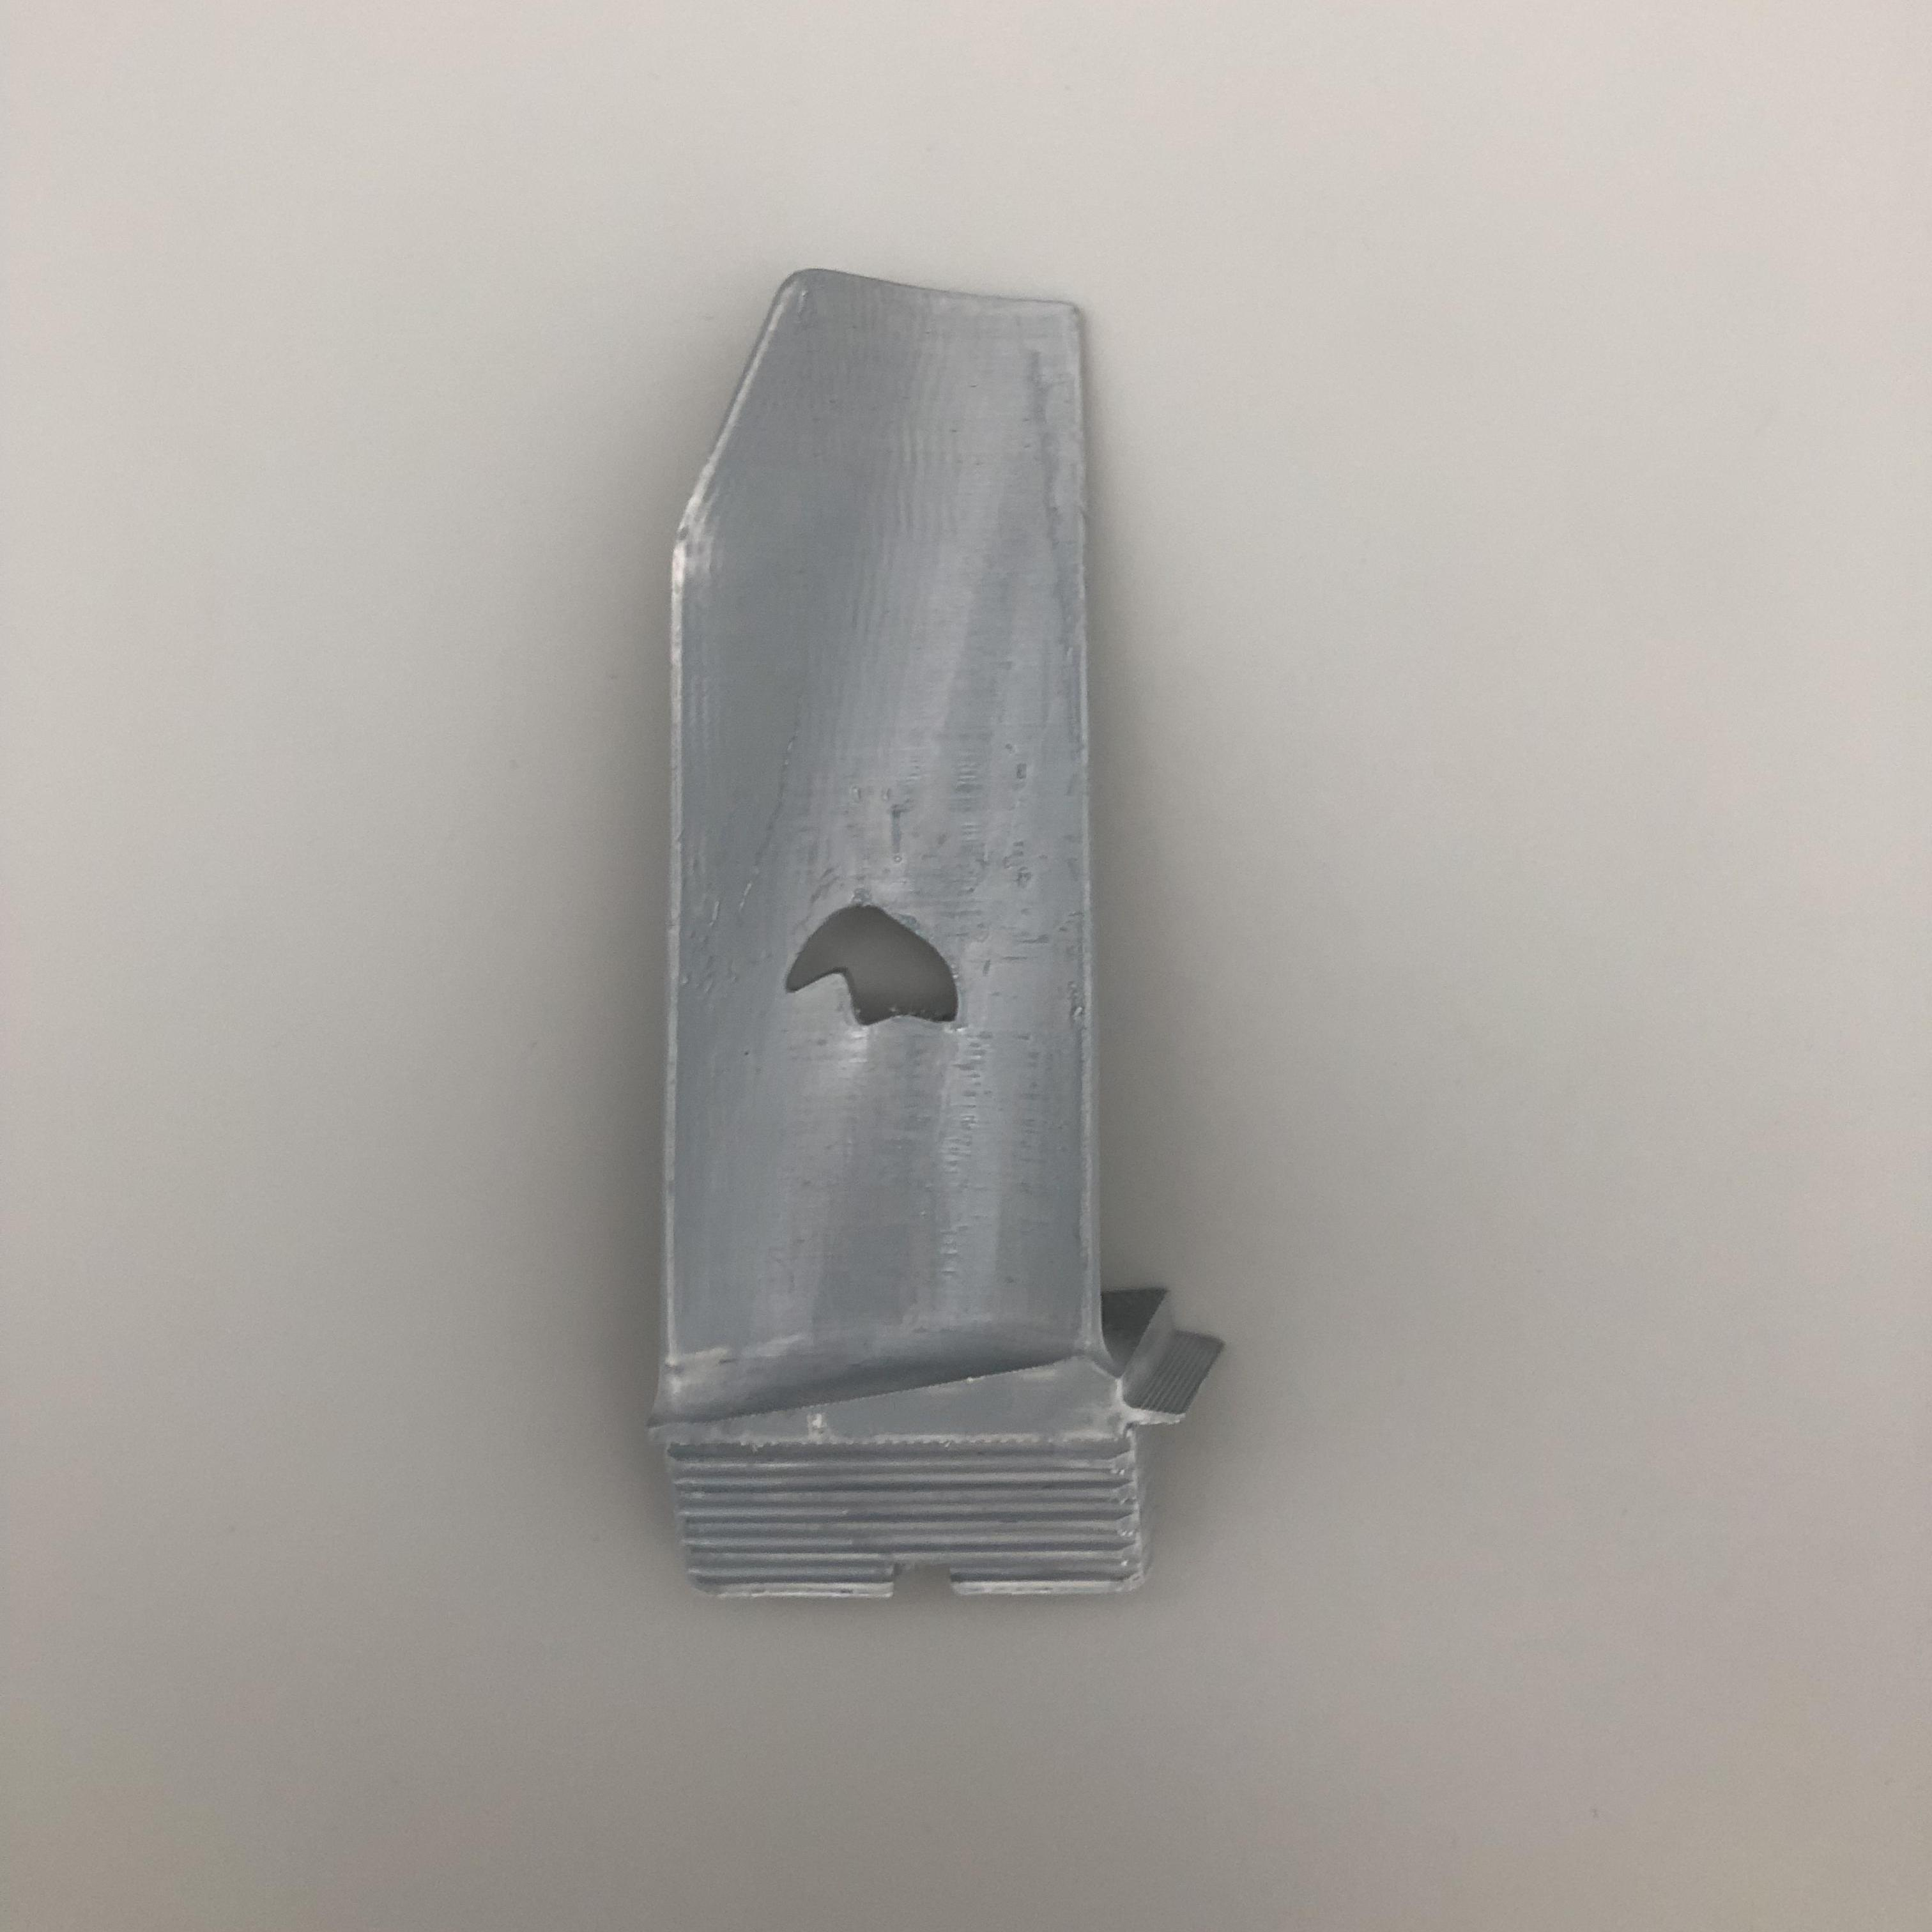breakdown: (782, 893, 991, 1042)
